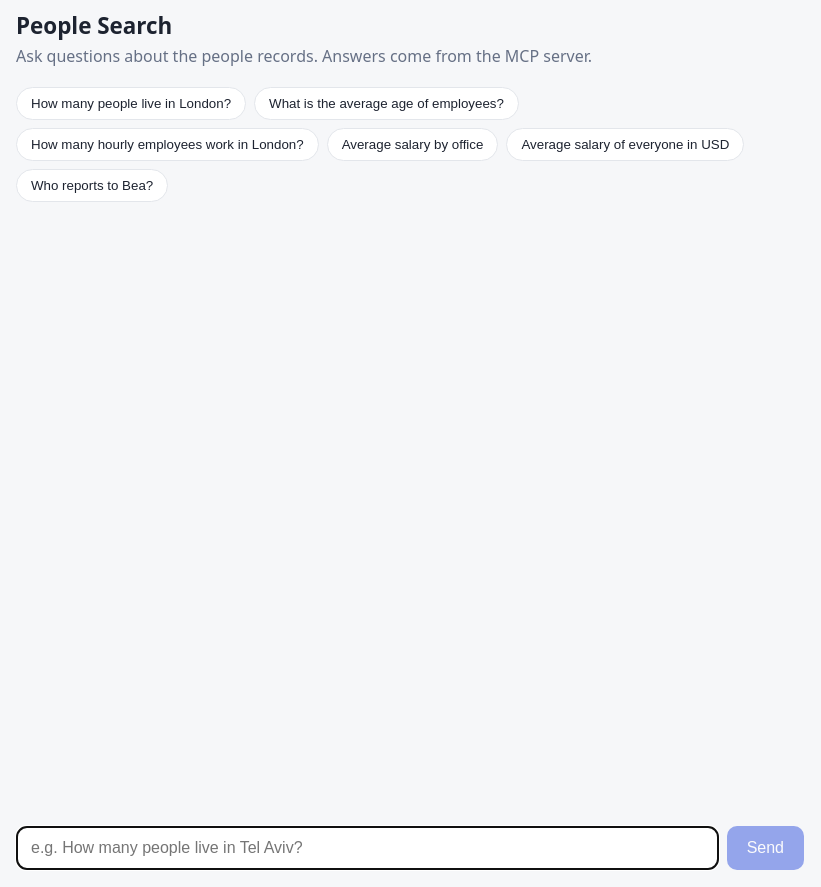
Test: People Search chat › disables Send until a question is typed
The width and height of the screenshot is (821, 887).
Check: the button "Send" is disabled, box [727,826,804,870]
In the field: (367, 848) [16,826,719,870], type "Hi"
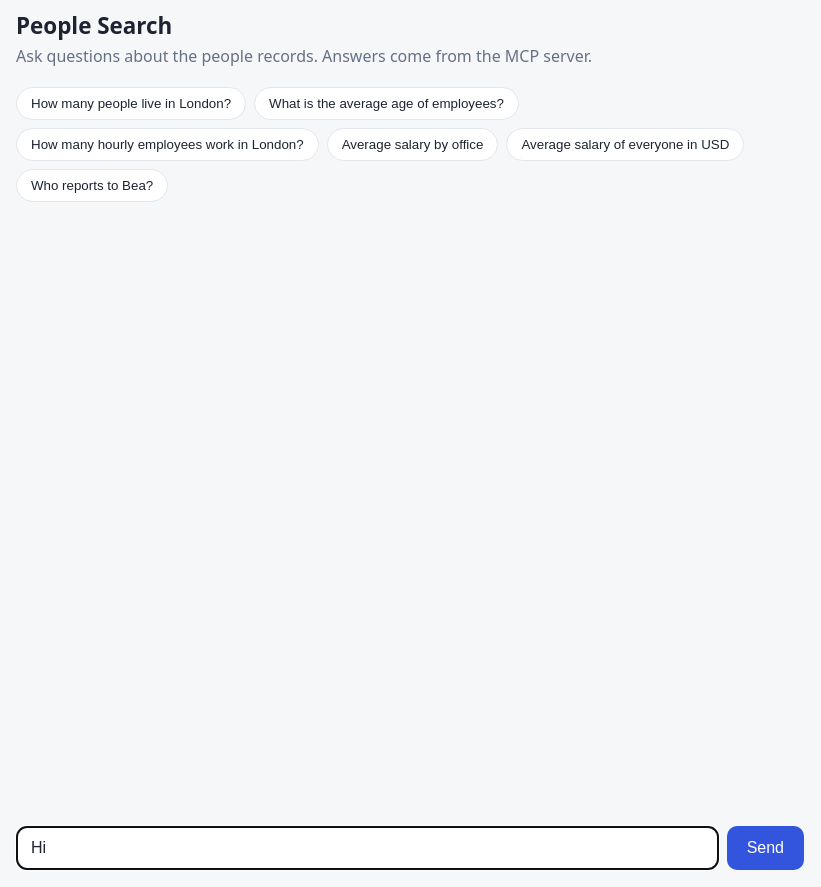
Check: the button "Send" is enabled, box [727,826,804,870]
